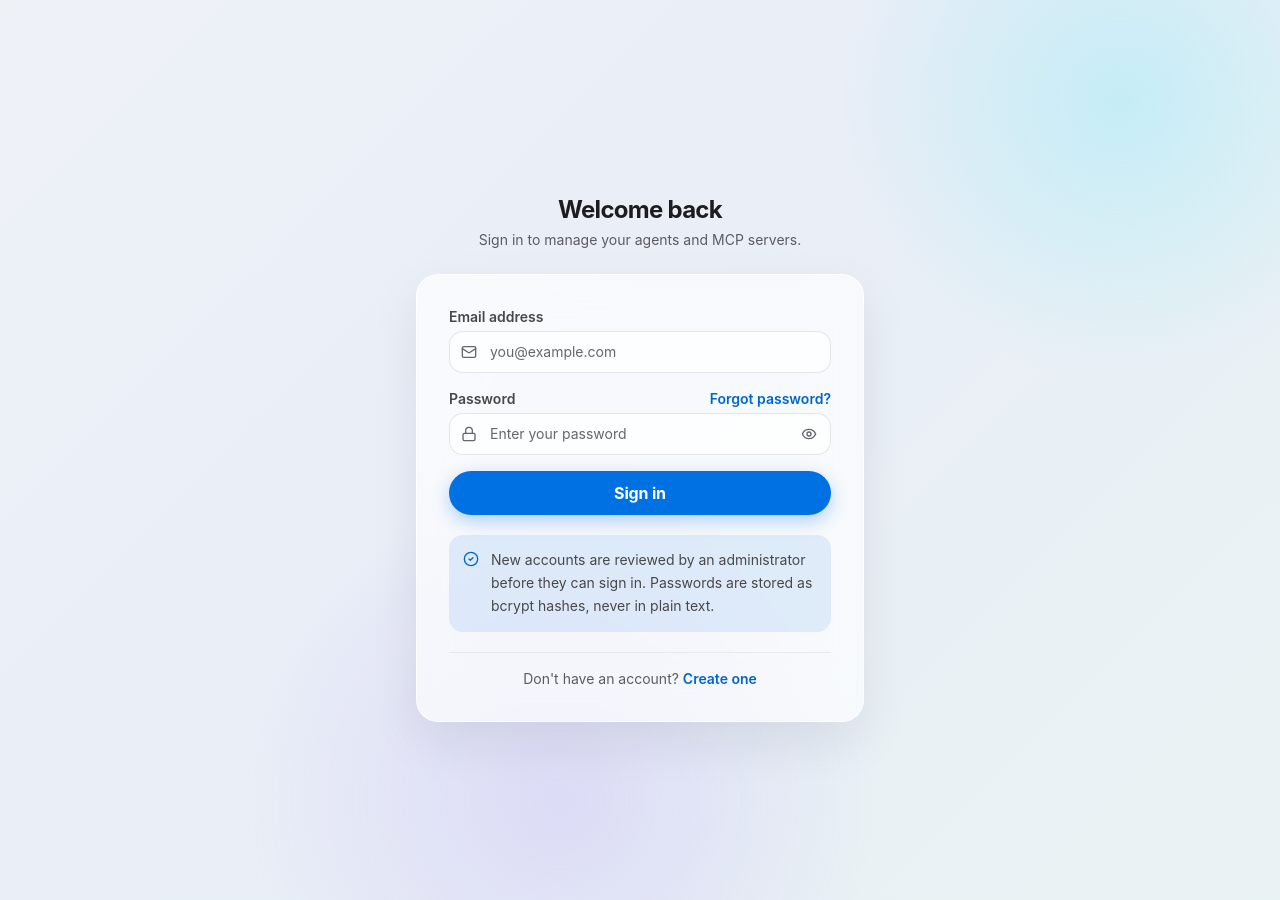
Scenario: sign-in failures › shows a wrong password once, in the form-level alert, and marks both inputs
This screenshot has width=1280, height=900.
Type "person@example.test" into the field labelled "Email address".
click(640, 352); type("person@example.test")  # box [449,331,831,373]
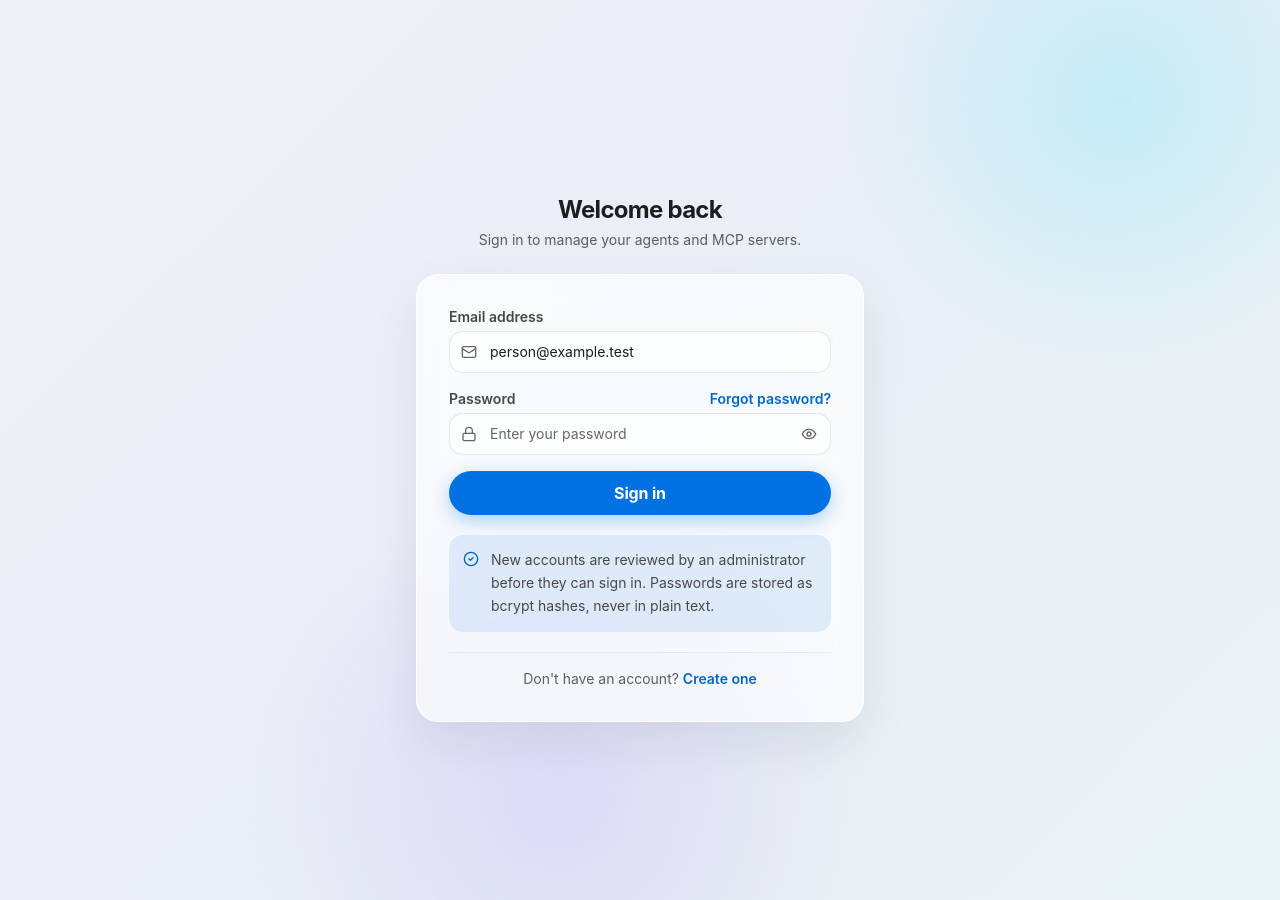
Type "not-the-password" into the password field labelled "Password".
click(640, 434); type("not-the-password")  # box [449,413,831,455]
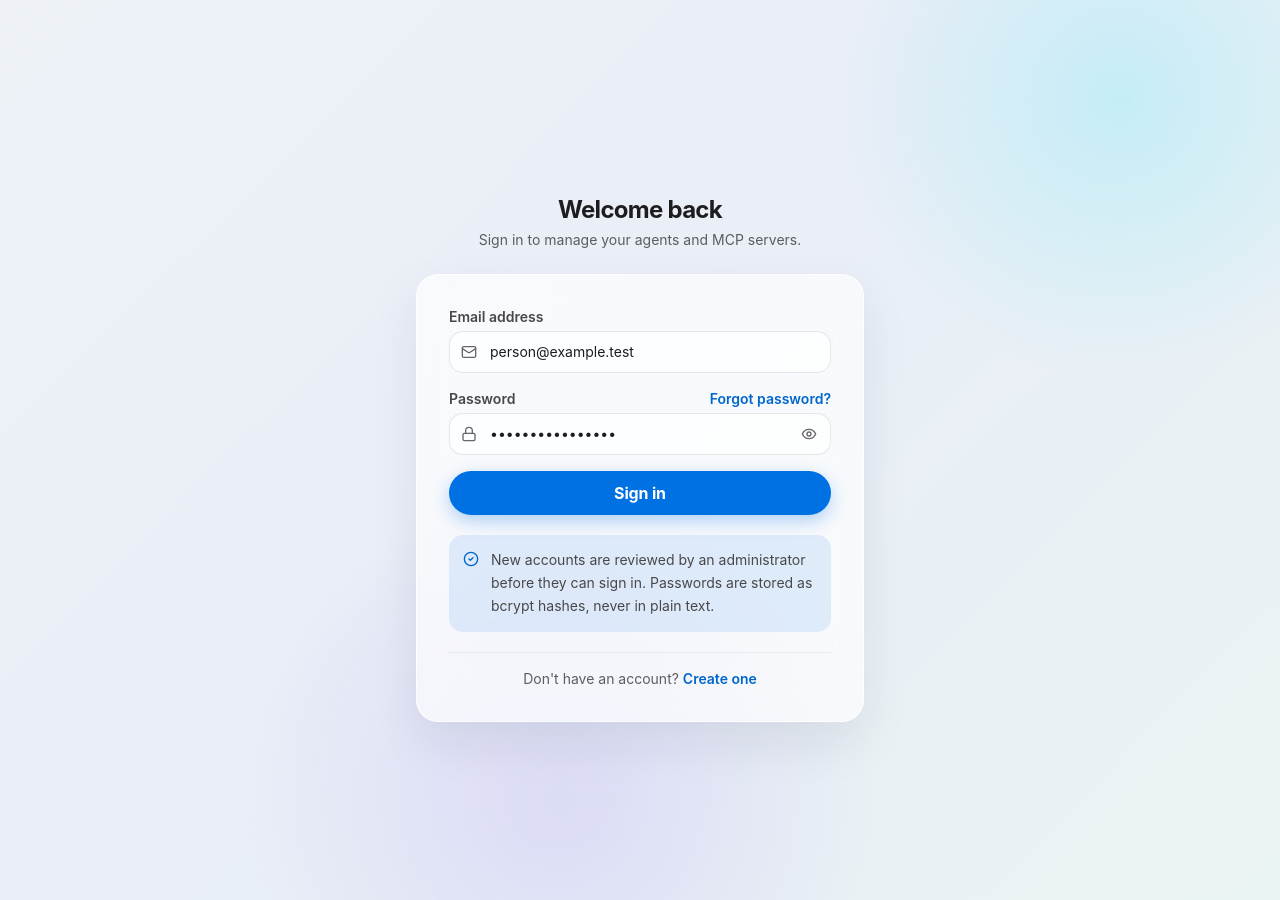
Click the button "Sign in".
click(640, 493)  # box [449,471,831,515]
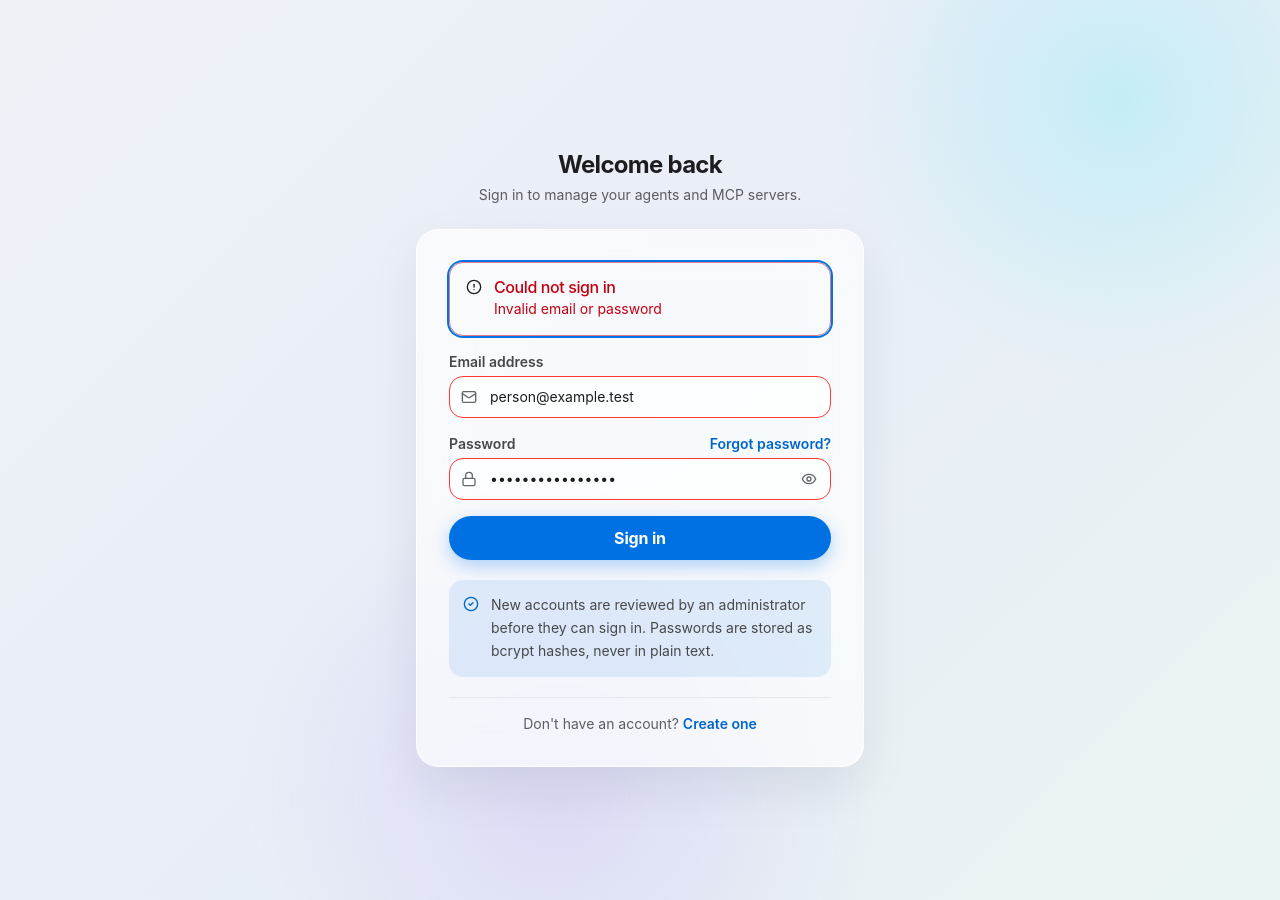
Check: the message shows "Invalid email or password", box [494,300,662,317]
Check: the text "Invalid email or password" is shown once, box [494,300,662,317]
